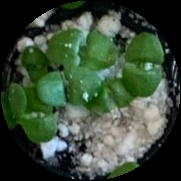Basil: (46, 26, 119, 68), (125, 32, 166, 103), (32, 69, 100, 103), (22, 85, 57, 142), (93, 77, 136, 115)
